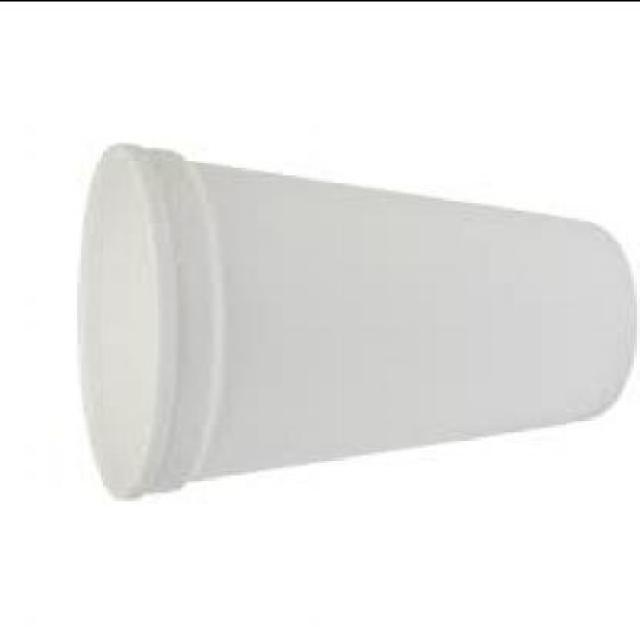PAPER: (80, 139, 634, 496)
